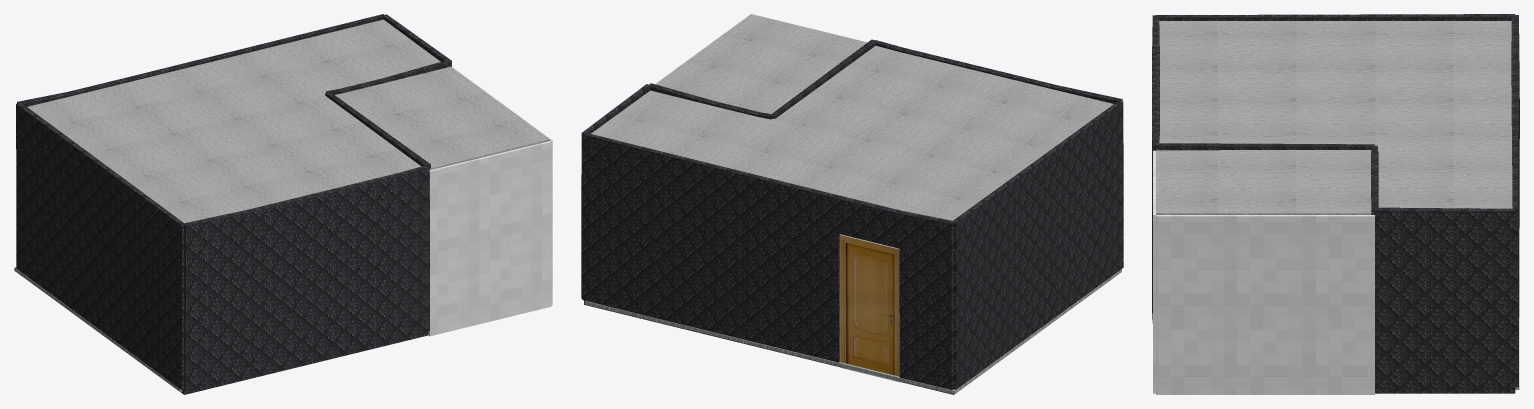
File: apartment.gltf
The picture shows the model from 3 angles, left to right: view 1: azimuth 30°, elevation 25°; view 2: azimuth 150°, elevation 25°; view 3: azimuth 270°, elevation 25°; orthographic projection. The views are drawn at different scales.
Visible parts, largest first — view 1: Walls, Ceil, Walls_bathroom, Floor; view 2: Walls, Ceil, Door, Floor; view 3: Ceil, Walls_bathroom, Walls.
Part boxes in pixels (x1,y1,x2,y2): Walls: [16, 14, 451, 394]; Ceil: [27, 19, 550, 222]; Walls_bathroom: [428, 66, 552, 336]; Floor: [14, 267, 182, 391]; Walls: [581, 39, 1123, 394]; Ceil: [591, 14, 1113, 220]; Door: [839, 234, 900, 382]; Floor: [584, 269, 1121, 394]; Ceil: [1156, 21, 1512, 214]; Walls_bathroom: [1153, 150, 1374, 394]; Walls: [1152, 14, 1519, 393].
Bounding box in the file's own units: 5.9 × 2.59 × 4.67.
Materials: 6 (6 with a texture image).
